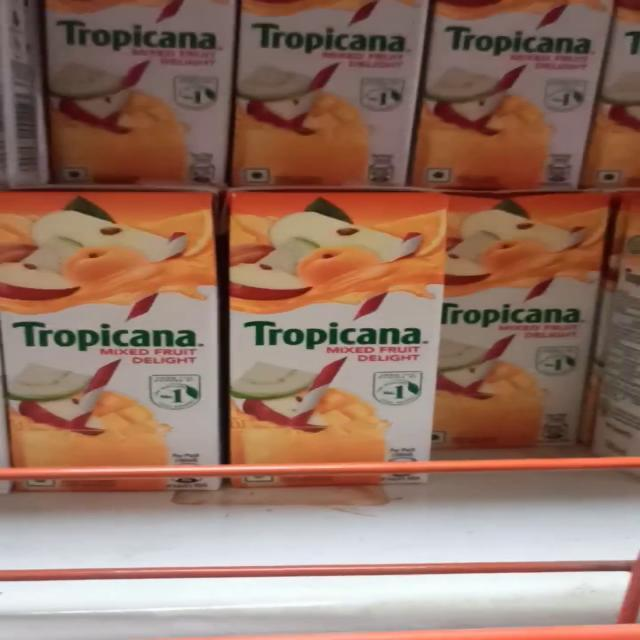Tropicana: (231, 190, 456, 492), (0, 193, 216, 491)
